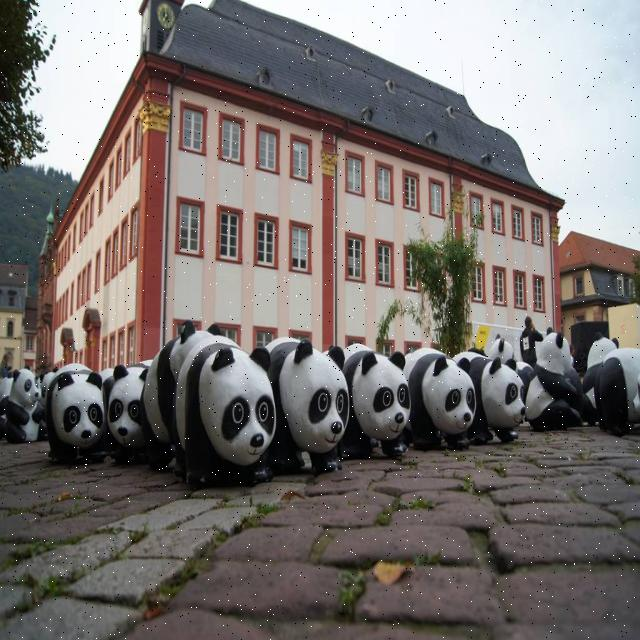panda: (0, 324, 640, 492), (408, 343, 485, 452)
